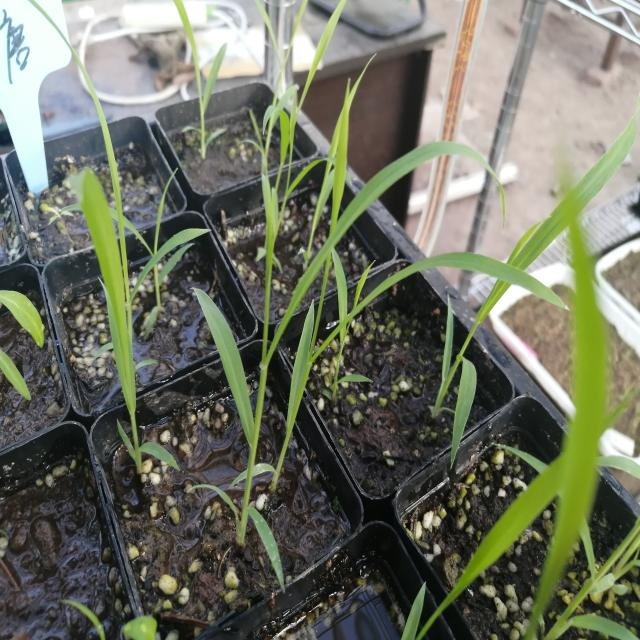crabgrass: (196, 121, 411, 551), (45, 30, 185, 477)
